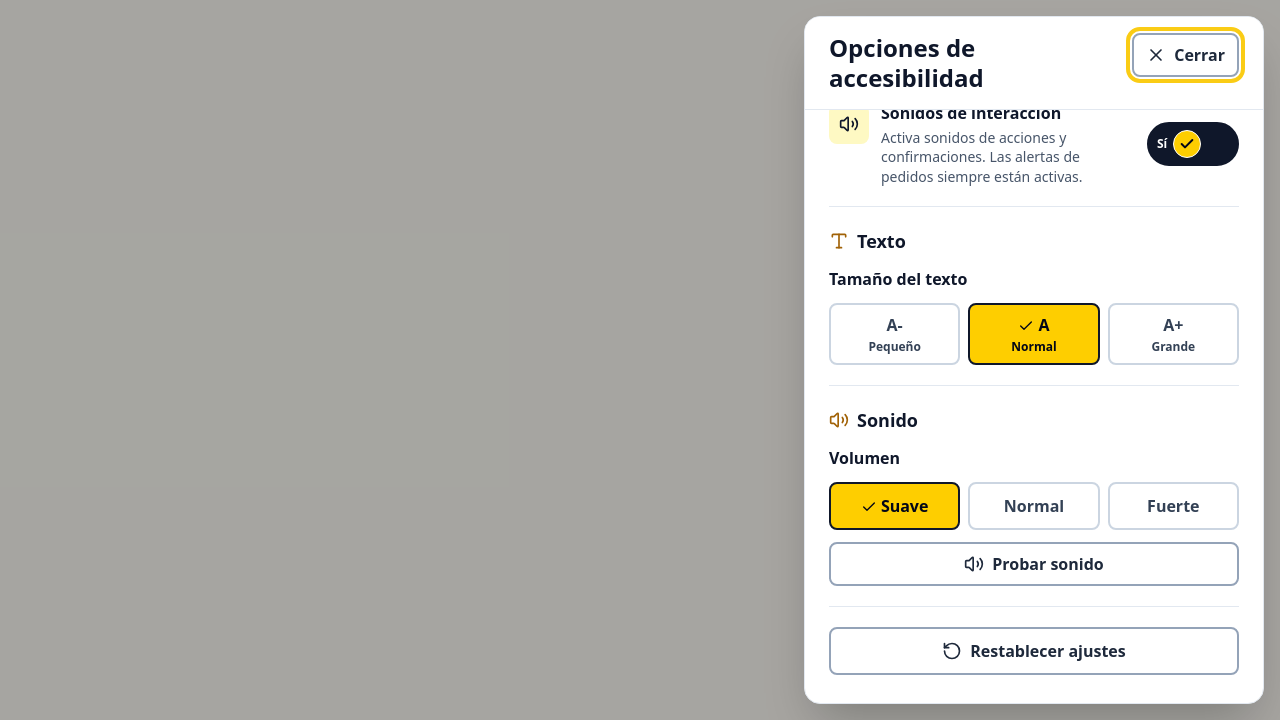
Test: AccessibilityPanel › informa cuando el navegador bloquea el audio
(page scrolled)
Click the button "Probar sonido" at x=1034, y=564, box [829,542,1239,586]
(page scrolled)
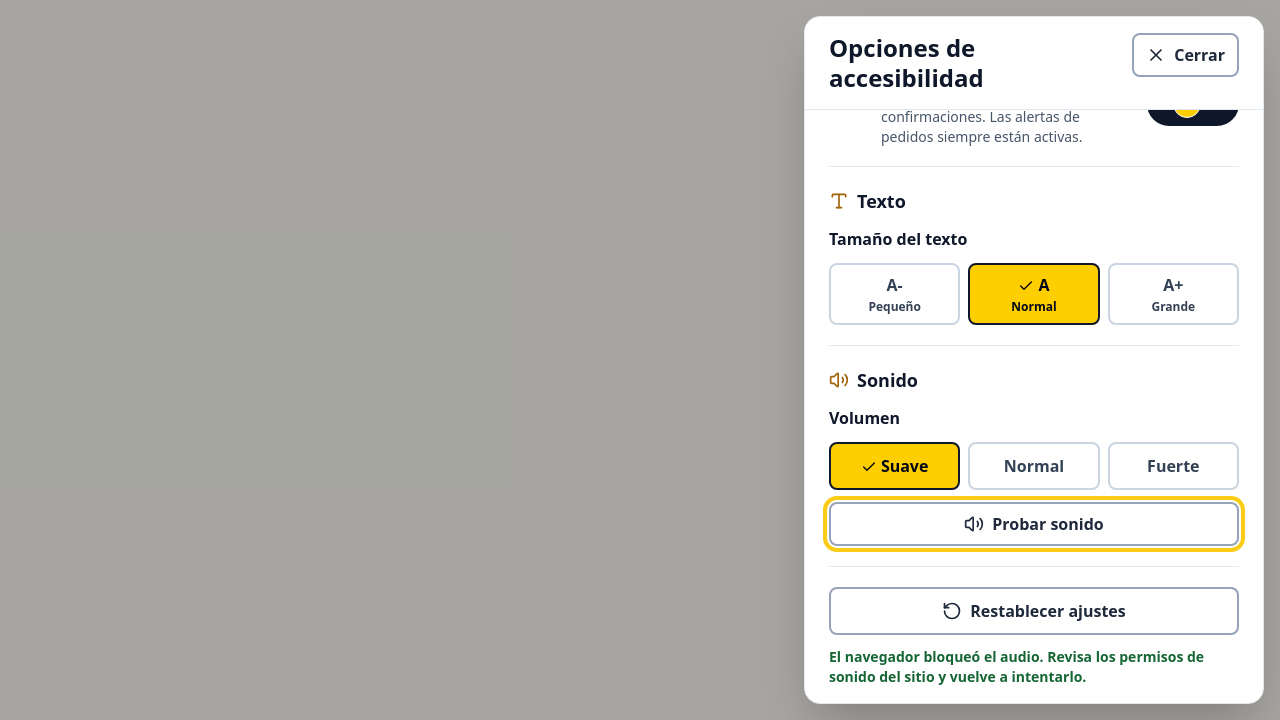
Expected: the message shows "navegador bloqueó el audio", [829,647,1204,686]
